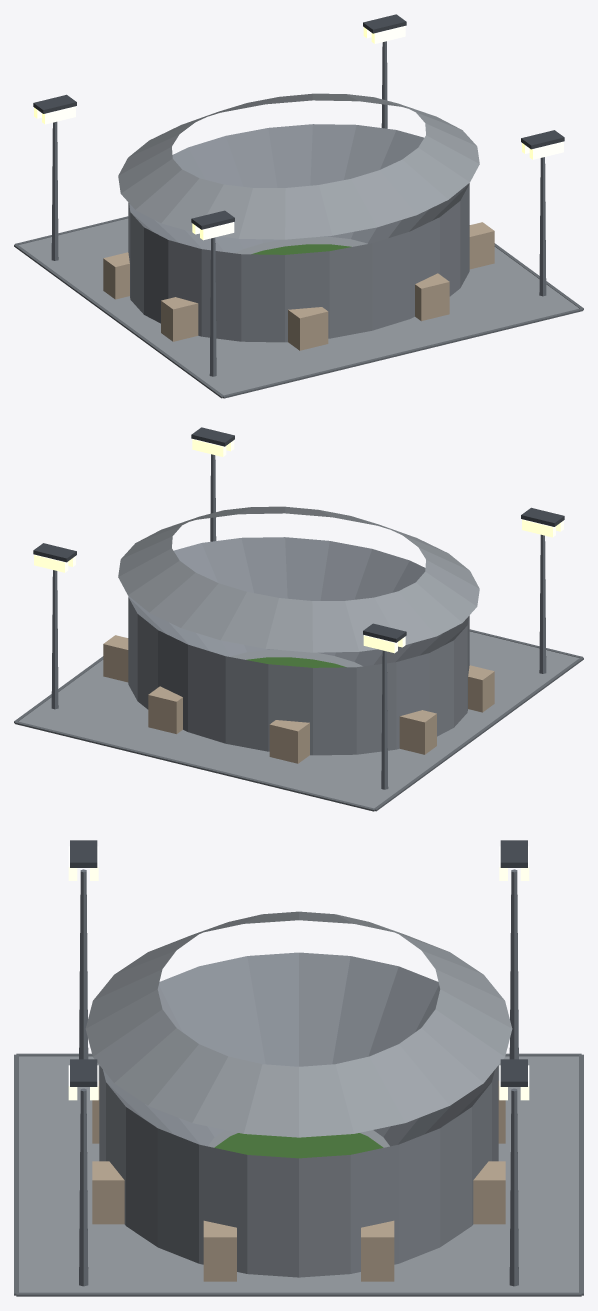
Rendered from block_stadium.glb.
The picture shows the model from 3 angles, top to bottom: view 1: azimuth 30°, elevation 25°; view 2: azimuth 150°, elevation 25°; view 3: azimuth 270°, elevation 25°; orthographic projection. The views are drawn at different scales.
Parts seen in each view (by area): view 1: BlockStadium; view 2: BlockStadium; view 3: BlockStadium.
Boxes of the visible parts, x1,y1,x2,y2 form: BlockStadium: [14, 14, 583, 398]; BlockStadium: [14, 427, 583, 811]; BlockStadium: [14, 840, 583, 1296].
Bounding box in the file's own units: 58.6 × 24.38 × 58.5.
